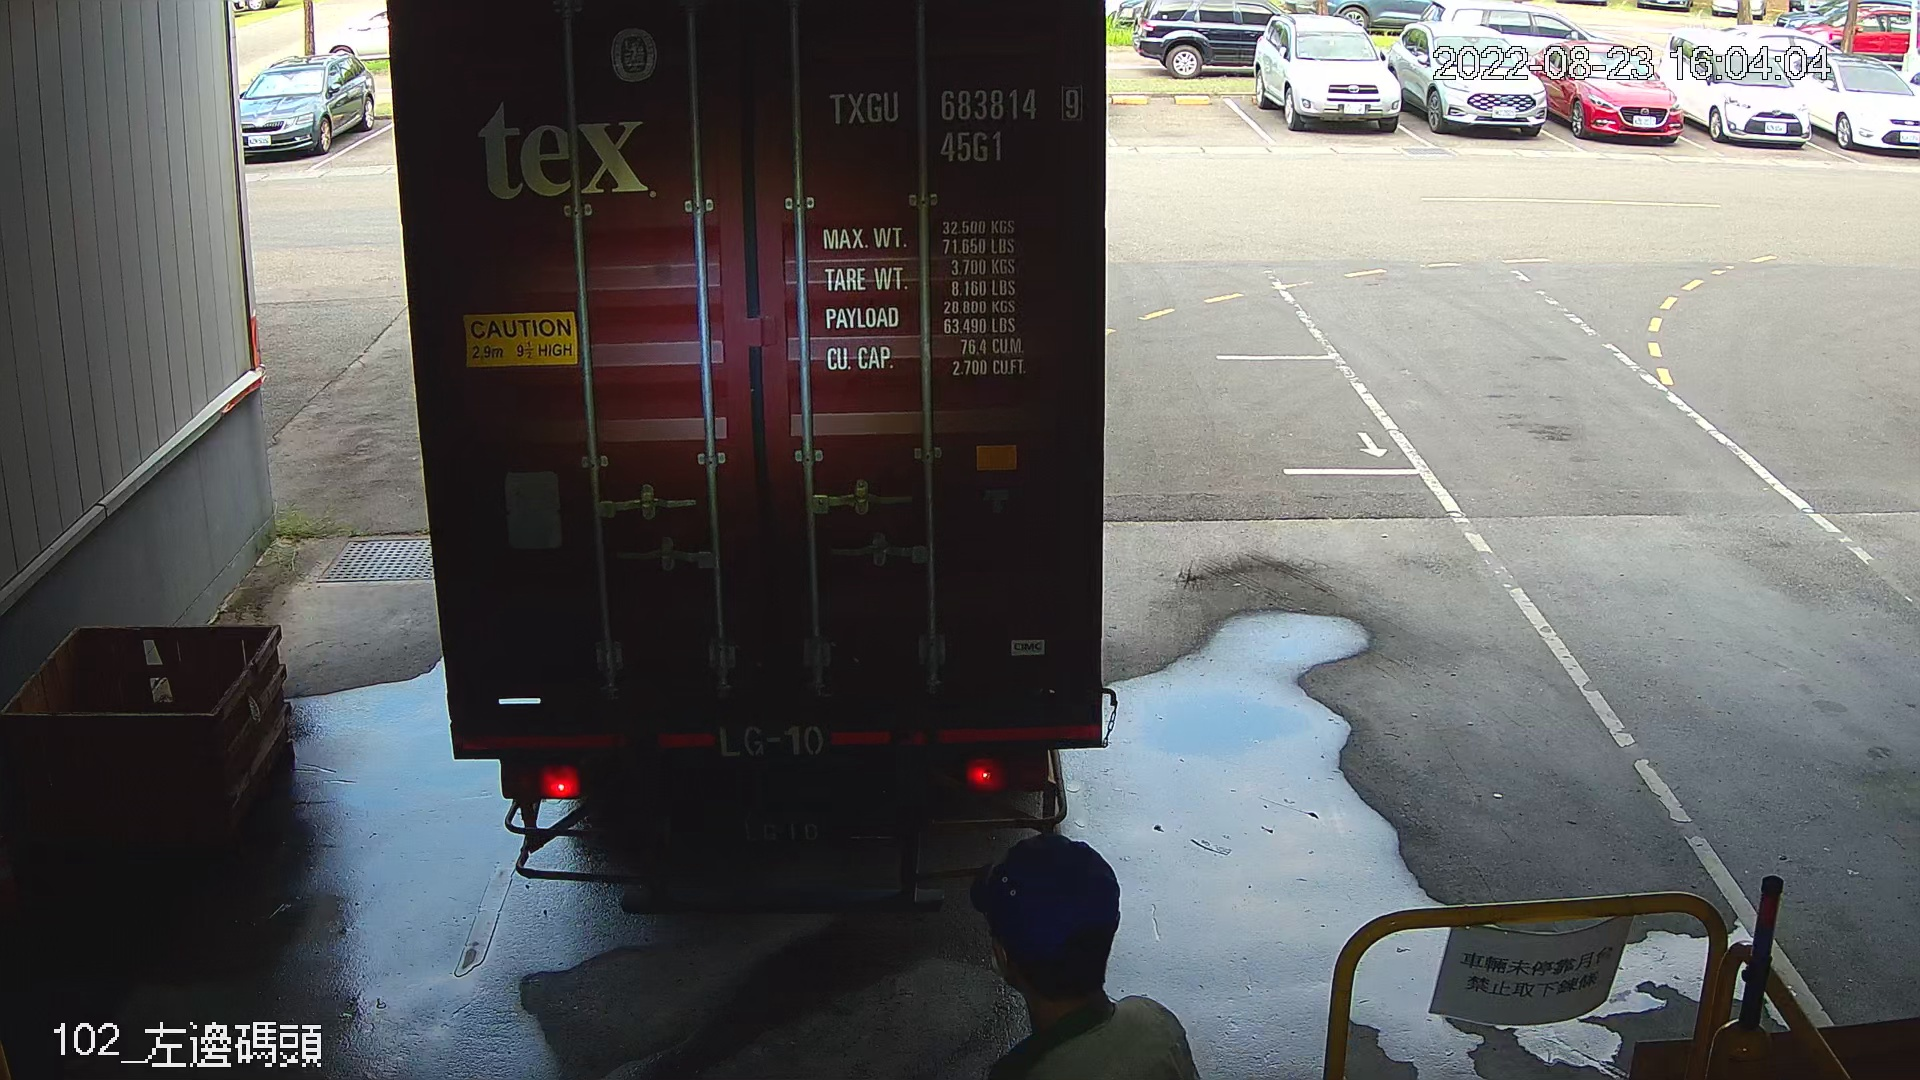container: (822, 76, 1095, 171)
